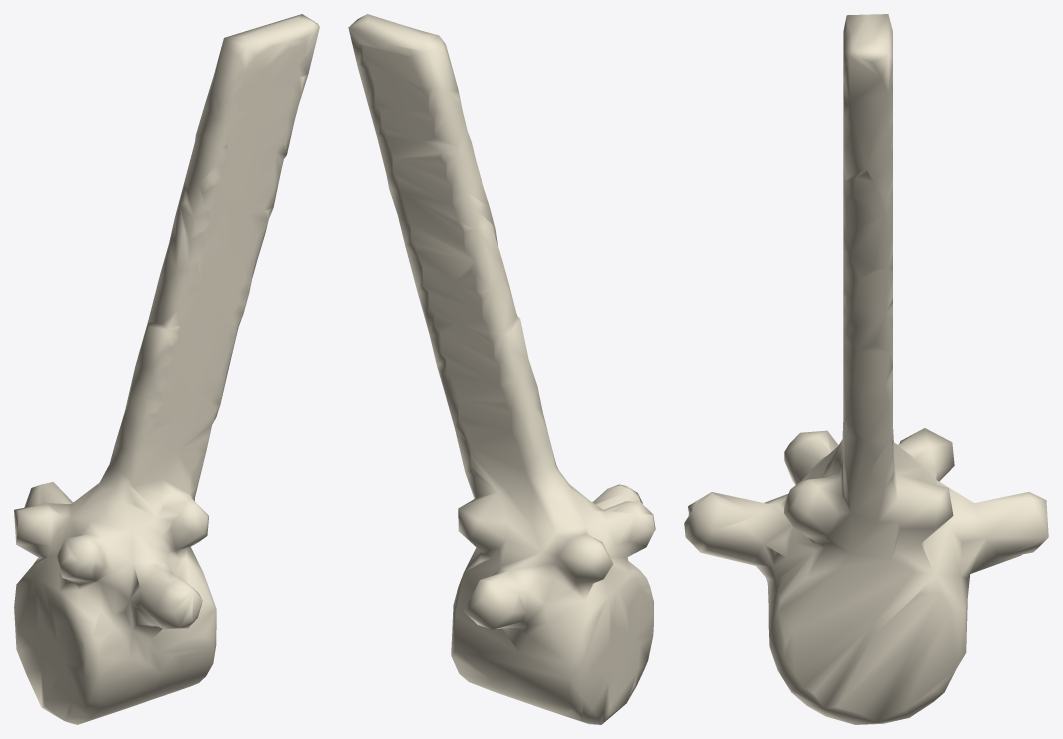
File: thoracic_5.glb
3 renders of one model, left to right at view 1: azimuth 30°, elevation 25°; view 2: azimuth 150°, elevation 25°; view 3: azimuth 270°, elevation 25°, orthographic. The views are drawn at different scales.
Parts seen in each view (by area): view 1: geometry_0; view 2: geometry_0; view 3: geometry_0.
Boxes of the visible parts, bbox=[...] form: geometry_0: bbox=[14, 14, 319, 724]; geometry_0: bbox=[348, 14, 655, 724]; geometry_0: bbox=[684, 14, 1048, 724].
Size of the model in its own units: 0.186 by 0.4093 by 0.1757.
